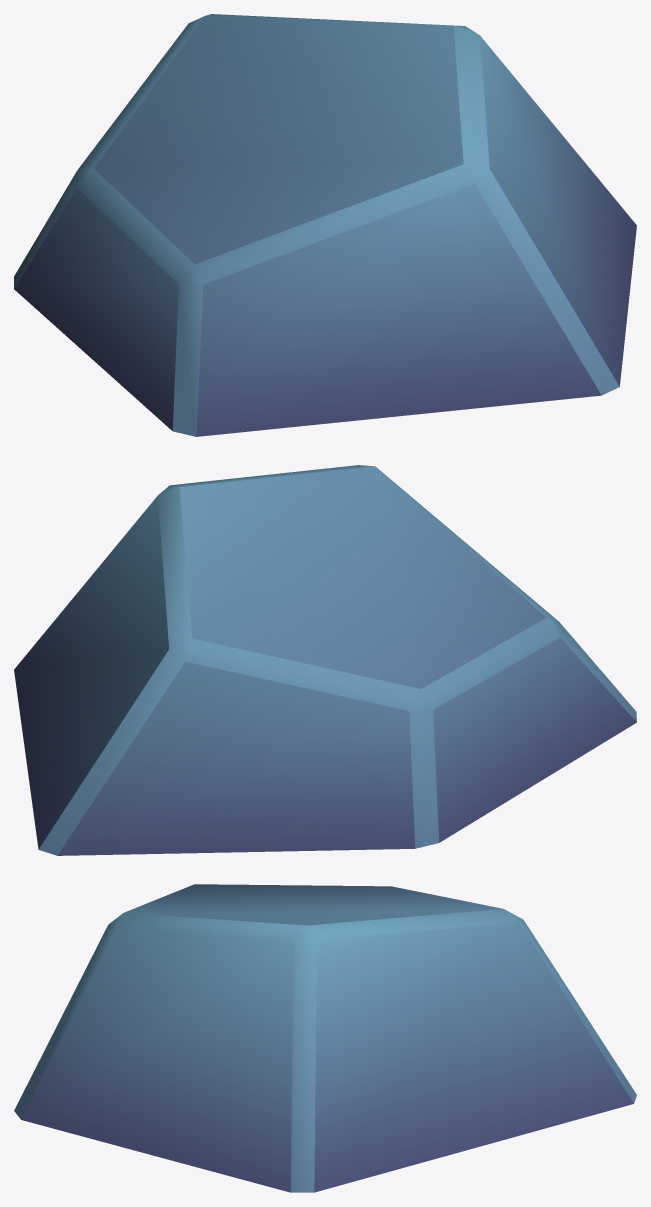
The model's file is Rock-3-5.fbx.
3 renders of one model, top to bottom at view 1: azimuth 30°, elevation 25°; view 2: azimuth 150°, elevation 25°; view 3: azimuth 270°, elevation 25°, orthographic. The views are drawn at different scales.
Parts seen in each view (by area): view 1: Rock-3-5; view 2: Rock-3-5; view 3: Rock-3-5.
Boxes of the visible parts, x1,y1,x2,y2 form: Rock-3-5: (14, 14, 636, 436); Rock-3-5: (14, 465, 636, 855); Rock-3-5: (14, 884, 636, 1192).
Bounding box in the file's own units: 164 × 65.96 × 190.
